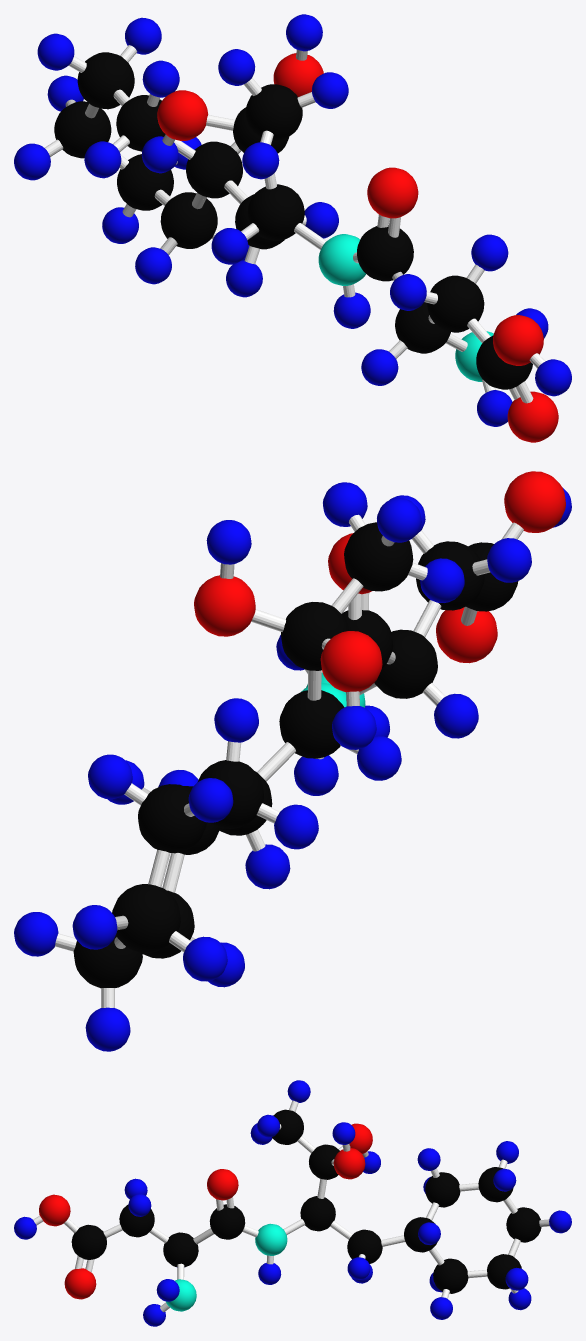
Rendered from aspartame_2.obj.
3 views of the same model, one above another, from view 1: azimuth 30°, elevation 25°; view 2: azimuth 150°, elevation 25°; view 3: azimuth 270°, elevation 25° (orthographic). The views are drawn at different scales.
Parts seen in each view (by area): view 1: Shape_Sphere.065_Shape_Sphere.066, Shape_Sphere.078_Shape_Sphere.079, Shape_Sphere.070_Shape_Sphere.071, Shape_Sphere.053_Shape_Sphere.054, Shape_Sphere.082_Shape_Sphere.083, Shape_Sphere.061_Shape_Sphere.062, Shape_Sphere.091_Shape_Sphere.092, Shape_Sphere.085_Shape_Sphere.086, Shape_Sphere.064_Shape_Sphere.065, Shape_Sphere.076_Shape_Sphere.077, Shape_Sphere.088_Shape_Sphere.089, Shape_Sphere.050_Shape_Sphere.051 (+31 smaller); view 2: Shape_Sphere.085_Shape_Sphere.086, Shape_Sphere.082_Shape_Sphere.083, Shape_Sphere.070_Shape_Sphere.071, Shape_Sphere.065_Shape_Sphere.066, Shape_Sphere.076_Shape_Sphere.077, Shape_Sphere.068_Shape_Sphere.069, Shape_Sphere.050_Shape_Sphere.051, Shape_Sphere.054_Shape_Sphere.055, Shape_Sphere.074_Shape_Sphere.075, Shape_Sphere.057_Shape_Sphere.058, Shape_Sphere.081_Shape_Sphere.082, Shape_Sphere.088_Shape_Sphere.089 (+24 smaller); view 3: Shape_Sphere.051_Shape_Sphere.052, Shape_Sphere.065_Shape_Sphere.066, Shape_Sphere.085_Shape_Sphere.086, Shape_Sphere.054_Shape_Sphere.055, Shape_Sphere.091_Shape_Sphere.092, Shape_Sphere.061_Shape_Sphere.062, Shape_Sphere.081_Shape_Sphere.082, Shape_Sphere.067_Shape_Sphere.068, Shape_Sphere.063_Shape_Sphere.064, Shape_Sphere.070_Shape_Sphere.071, Shape_Sphere.068_Shape_Sphere.069, Shape_Sphere.064_Shape_Sphere.065 (+27 smaller).
Part boxes in pixels (x1,y1,x2,y2): Shape_Sphere.065_Shape_Sphere.066: (247,184,304,240); Shape_Sphere.078_Shape_Sphere.079: (186,141,242,198); Shape_Sphere.070_Shape_Sphere.071: (245,84,302,140); Shape_Sphere.053_Shape_Sphere.054: (427,275,484,332); Shape_Sphere.082_Shape_Sphere.083: (77,52,134,109); Shape_Sphere.061_Shape_Sphere.062: (357,225,413,281); Shape_Sphere.091_Shape_Sphere.092: (160,192,217,248); Shape_Sphere.085_Shape_Sphere.086: (54,101,111,158); Shape_Sphere.064_Shape_Sphere.065: (367,167,418,218); Shape_Sphere.076_Shape_Sphere.077: (157,90,208,140); Shape_Sphere.088_Shape_Sphere.089: (117,154,173,210); Shape_Sphere.050_Shape_Sphere.051: (493,315,543,365); Shape_Sphere.085_Shape_Sphere.086: (112,884,180,952); Shape_Sphere.082_Shape_Sphere.083: (138,784,206,853); Shape_Sphere.070_Shape_Sphere.071: (344,522,413,591); Shape_Sphere.065_Shape_Sphere.066: (279,690,344,758); Shape_Sphere.076_Shape_Sphere.077: (320,631,382,692); Shape_Sphere.068_Shape_Sphere.069: (281,602,348,670); Shape_Sphere.050_Shape_Sphere.051: (504,471,565,532); Shape_Sphere.054_Shape_Sphere.055: (374,629,437,698); Shape_Sphere.074_Shape_Sphere.075: (194,575,255,636); Shape_Sphere.057_Shape_Sphere.058: (436,607,497,663); Shape_Sphere.081_Shape_Sphere.082: (197,760,263,828); Shape_Sphere.088_Shape_Sphere.089: (73,935,142,988); Shape_Sphere.051_Shape_Sphere.052: (71,1224,106,1259); Shape_Sphere.065_Shape_Sphere.066: (300,1196,335,1231); Shape_Sphere.085_Shape_Sphere.086: (506,1207,541,1242); Shape_Sphere.054_Shape_Sphere.055: (163,1232,198,1267); Shape_Sphere.091_Shape_Sphere.092: (433,1258,468,1293); Shape_Sphere.061_Shape_Sphere.062: (209,1204,245,1239); Shape_Sphere.081_Shape_Sphere.082: (425,1172,460,1207); Shape_Sphere.067_Shape_Sphere.068: (347,1229,382,1263); Shape_Sphere.063_Shape_Sphere.064: (255,1223,287,1255); Shape_Sphere.070_Shape_Sphere.071: (272,1109,303,1144); Shape_Sphere.068_Shape_Sphere.069: (309,1144,339,1179); Shape_Sphere.064_Shape_Sphere.065: (207,1169,238,1200).
Bounding box in the file's own units: 5.04 × 6.62 × 16.01.
